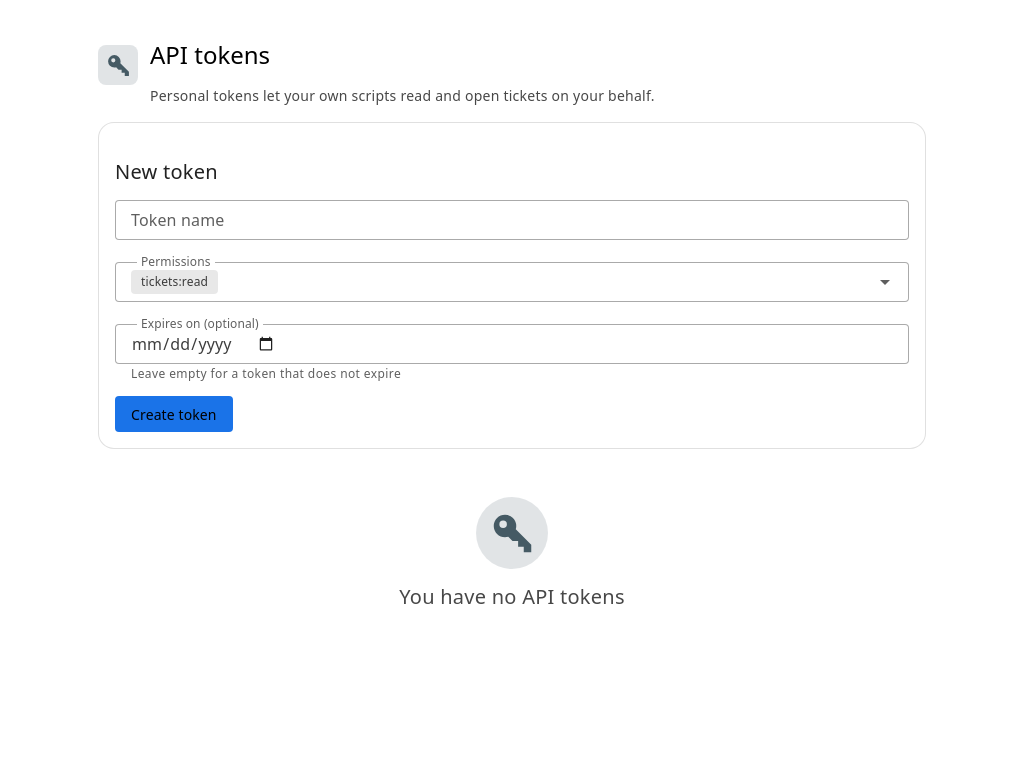
Test: portal API tokens (FE-037) › creates a token (shown once) with only customer scopes; empty name blocks the request
The image size is (1024, 768).
Submit the form with test id "token-form", box [115, 200, 909, 432]
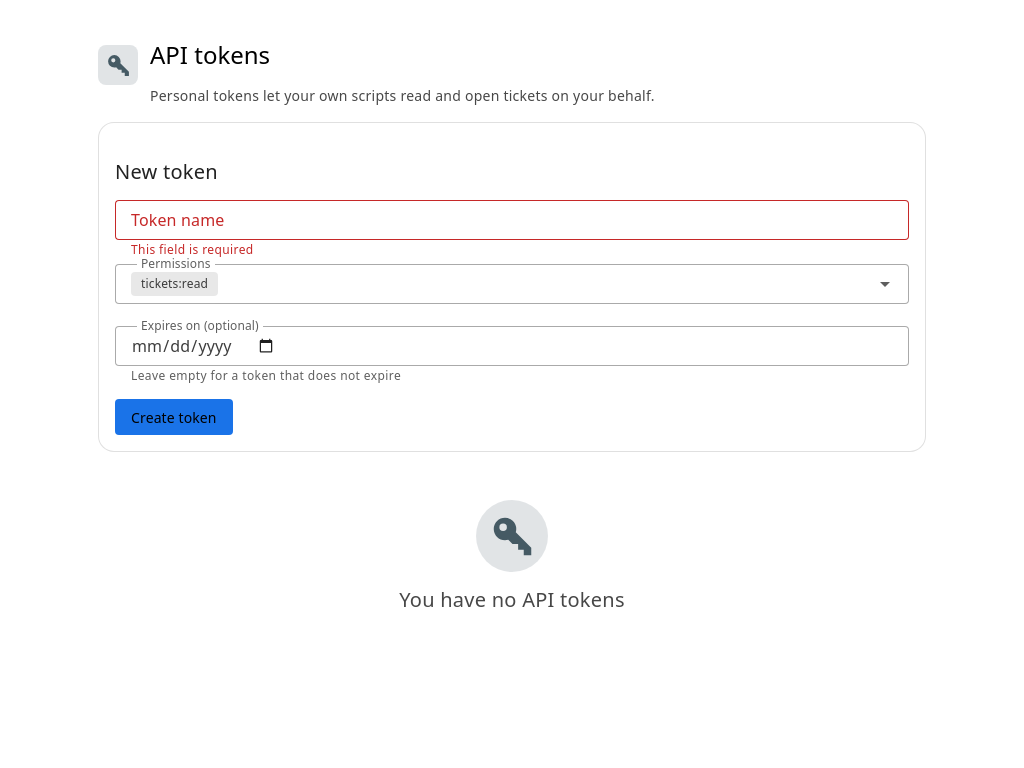
Type "CI" into the field labelled "Token name". click: (512, 220)
box: [115, 200, 909, 240]
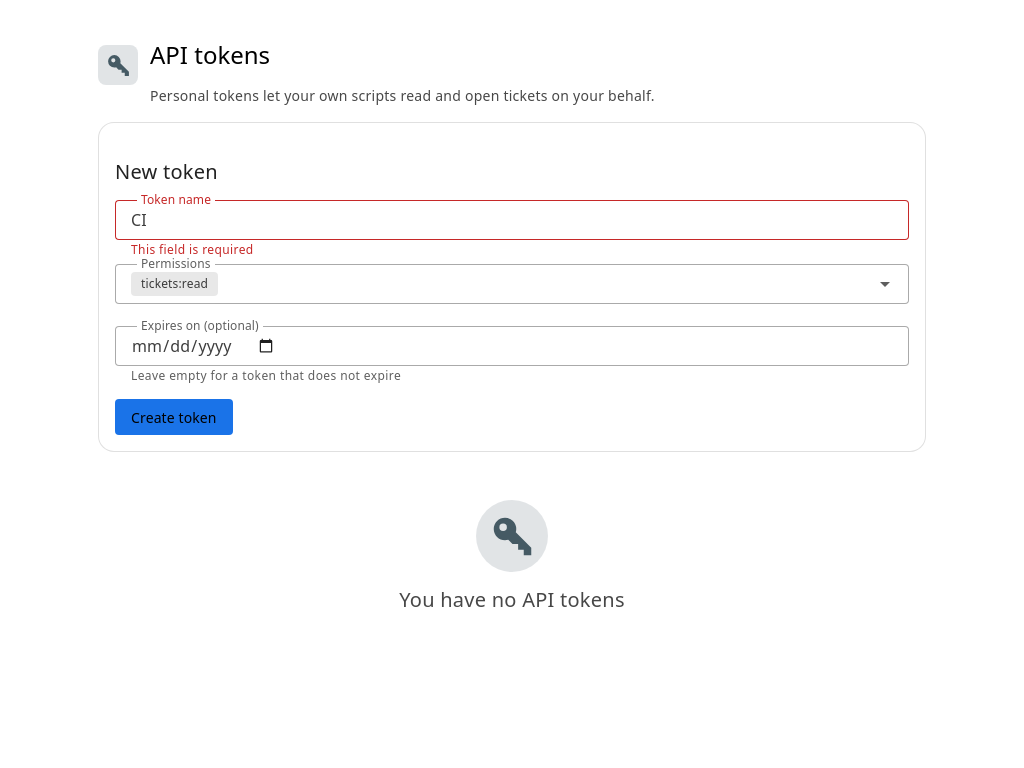
Submit the form with test id "token-form", box [115, 200, 909, 435]
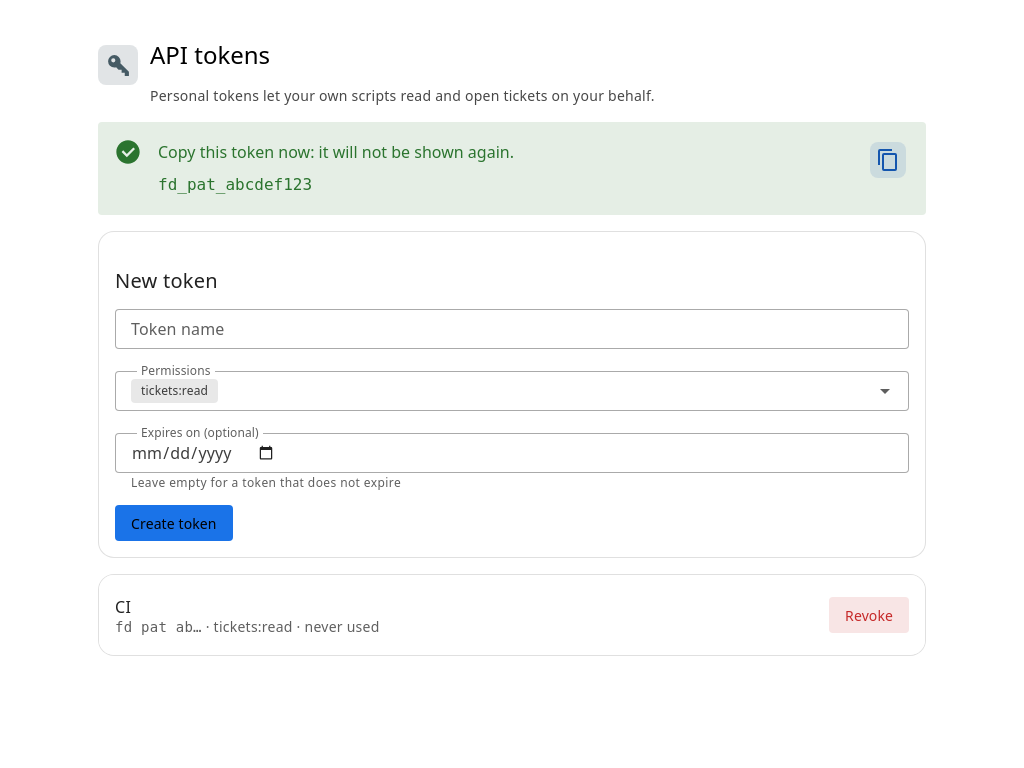
Check: the message with test id "token-secret" shows "fd_pat_abcdef123", box [158, 175, 312, 194]
